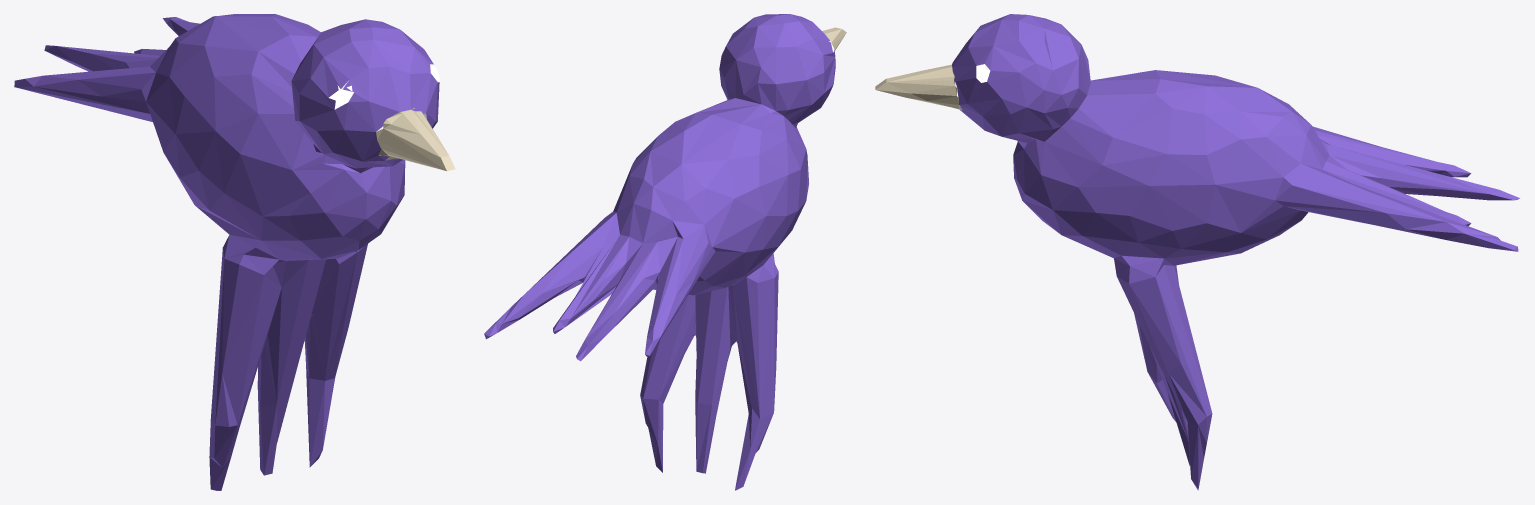
File: spirit_raven.glb
3 views of the same model, side by side, from view 1: azimuth 30°, elevation 25°; view 2: azimuth 150°, elevation 25°; view 3: azimuth 270°, elevation 25° (orthographic). The views are drawn at different scales.
Visible parts, largest first — view 1: spirit_raven; view 2: spirit_raven; view 3: spirit_raven.
Boxes of the visible parts, x1=… form: spirit_raven: x1=14, y1=14, x2=455, y2=490; spirit_raven: x1=484, y1=14, x2=846, y2=490; spirit_raven: x1=875, y1=14, x2=1519, y2=490.
Bounding box in the file's own units: 0.3753 × 1.01 × 1.31.
